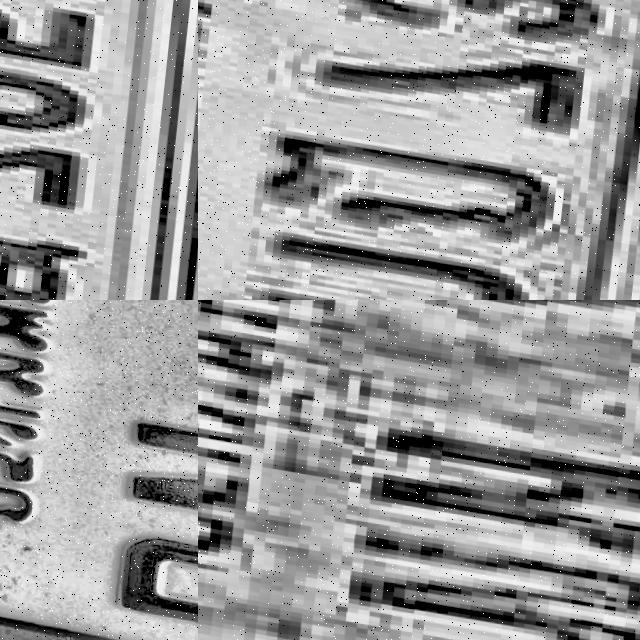license-plate: (198, 300, 640, 640), (198, 0, 640, 300), (0, 300, 198, 640), (0, 0, 198, 300)
